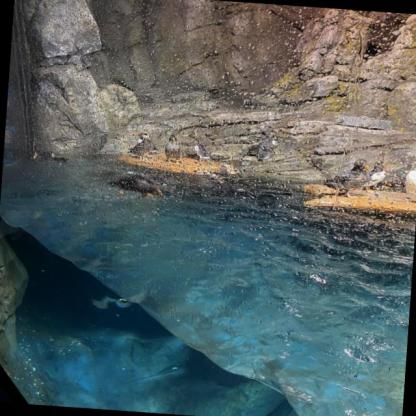puffin: (326, 156, 370, 199), (107, 173, 164, 199), (126, 132, 158, 160), (399, 159, 415, 204), (364, 159, 388, 189), (28, 148, 68, 166), (192, 137, 212, 163), (165, 134, 182, 162)
